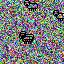sheep: (52, 9, 64, 22), (24, 0, 38, 11)
